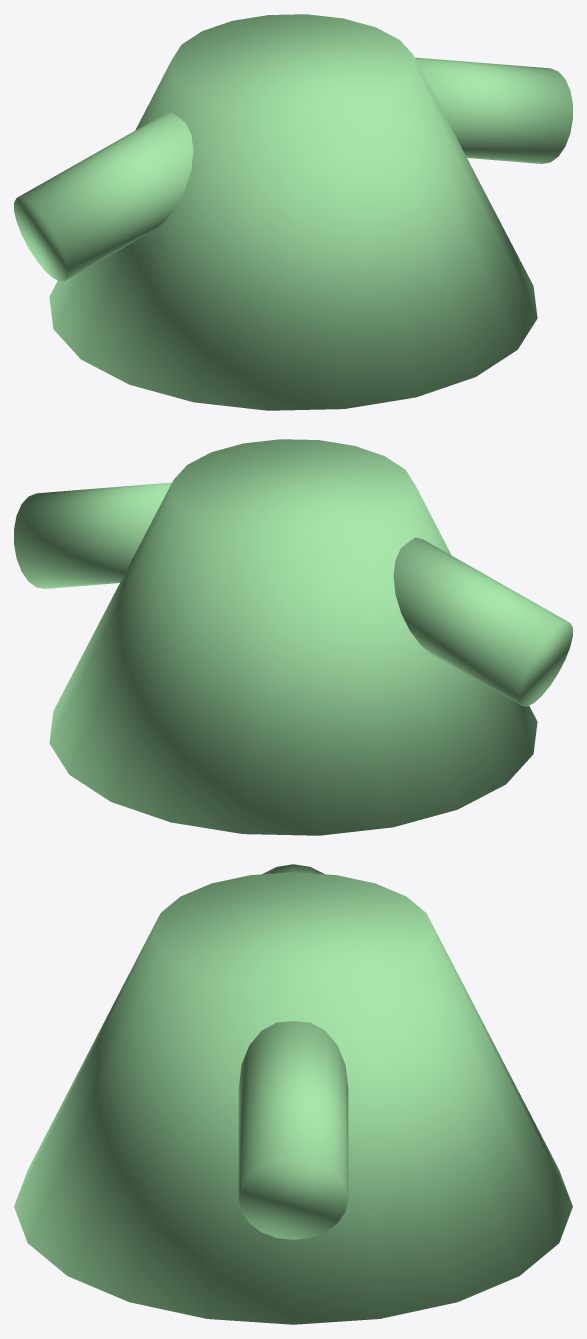
File: gnome_body.fbx
The picture shows the model from 3 angles, top to bottom: view 1: azimuth 30°, elevation 25°; view 2: azimuth 150°, elevation 25°; view 3: azimuth 270°, elevation 25°; orthographic projection. The views are drawn at different scales.
Parts seen in each view (by area): view 1: gnome_body; view 2: gnome_body; view 3: gnome_body.
Part boxes in pixels (bbox=[...]): gnome_body: bbox=[14, 14, 572, 410]; gnome_body: bbox=[14, 439, 572, 835]; gnome_body: bbox=[14, 864, 572, 1324].
Size of the model in its own units: 230 by 100 by 184.
